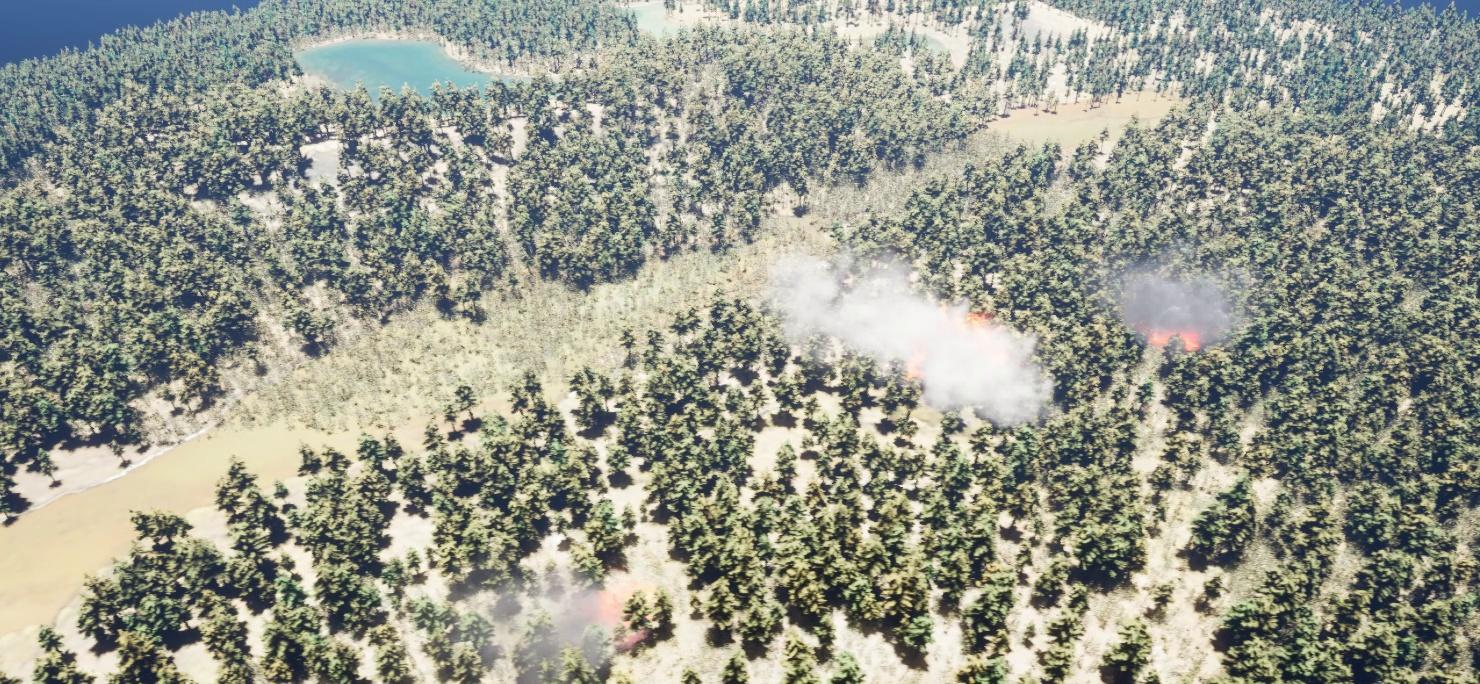fire: (899, 298, 1004, 370), (1142, 327, 1207, 355)
smoke: (755, 250, 1068, 442), (471, 581, 645, 683), (1114, 263, 1245, 363)
